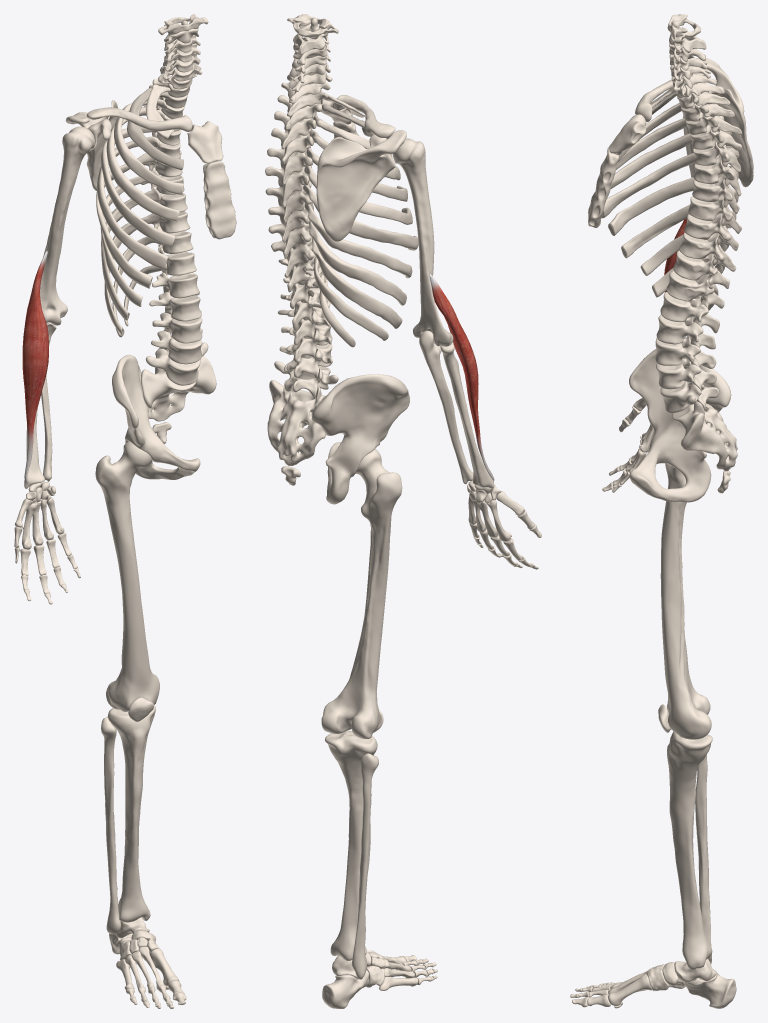
Rendered from overview_3dproject2.glb.
The picture shows the model from 3 angles, left to right: view 1: azimuth 30°, elevation 25°; view 2: azimuth 150°, elevation 25°; view 3: azimuth 270°, elevation 25°; orthographic projection. The views are drawn at different scales.
Visible parts, largest first — view 1: Femur.r, Tibia.r, Hip bone.r, Humerus.r, Brachioradialis muscle.r, Sacrum, Fibula.r, Body of sternum, Rib (6th).r, Rib (4th).r, Rib (5th).r, Scapula.r. (+19 smaller); view 2: Femur.r, Hip bone.r, Scapula.r., Tibia.r, Humerus.r, Sacrum, Fibula.r, Brachioradialis muscle.r, Ulna.r, Radius.r, Rib (9th).r, Rib (10th).r (+20 smaller); view 3: Femur.r, Hip bone.r, Tibia.r, Sacrum, Fibula.r, Scapula.r., Rib (7th).r, Lumbar vertebrae (L1), Lumbar vertebrae (L2), Lumbar vertebrae (L3), Lumbar vertebrae (L4), Thoracic vertebrae (T12) (+27 smaller).
Boxes of the visible parts, x1,y1,x2,y2 form: Femur.r: (95,441,159,711); Tibia.r: (107,706,155,922); Hip bone.r: (112,354,200,479); Humerus.r: (40,126,94,325); Brachioradialis muscle.r: (22,251,48,482); Sacrum: (141,356,216,421); Fibula.r: (101,717,120,934); Body of sternum: (203,161,236,239); Rib (6th).r: (97,136,167,269); Rib (4th).r: (106,107,179,221); Rib (5th).r: (101,127,174,247); Scapula.r.: (65,100,117,190); Femur.r: (321,449,402,739); Hip bone.r: (311,374,409,504); Scapula.r.: (316,130,406,241); Tibia.r: (325,730,377,961); Humerus.r: (392,138,453,346); Sacrum: (267,380,325,465); Fibula.r: (352,753,378,979); Brachioradialis muscle.r: (429,274,494,480); Ulna.r: (419,330,473,484); Radius.r: (440,343,494,488); Rib (9th).r: (309,219,406,305); Rib (10th).r: (311,237,402,328); Femur.r: (660,463,711,739); Hip bone.r: (629,347,731,502); Tibia.r: (667,731,712,970); Sacrum: (672,384,737,471); Fibula.r: (695,754,711,963); Scapula.r.: (696,58,753,187); Rib (7th).r: (608,166,738,235); Lumbar vertebrae (L1): (660,291,719,333); Lumbar vertebrae (L2): (656,314,715,349); Lumbar vertebrae (L3): (655,336,716,368); Lumbar vertebrae (L4): (656,358,716,391); Thoracic vertebrae (T12): (666,270,724,308).
Size of the model in its own units: 0.3973 by 1.54 by 0.2542.
106 materials, 1 textured.
